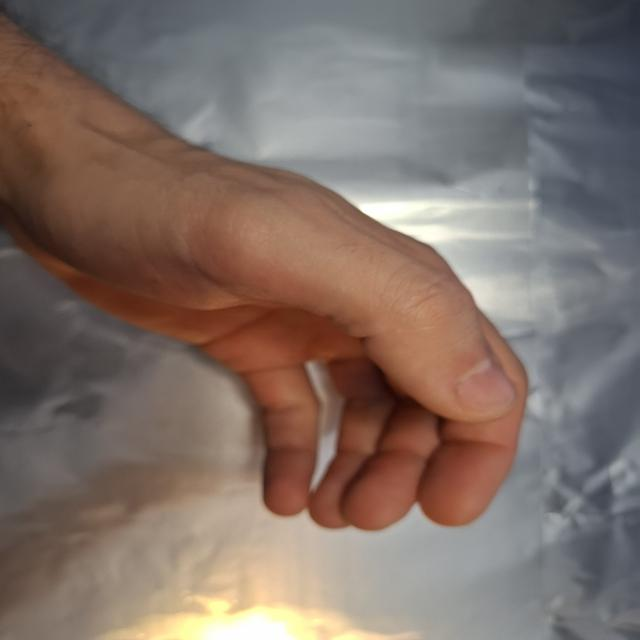glove_off: (27, 122, 534, 533)
